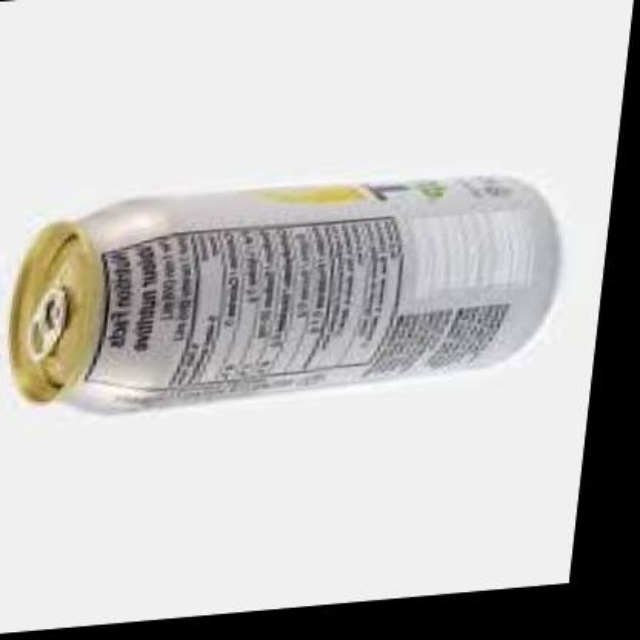trash: (9, 177, 557, 408)
